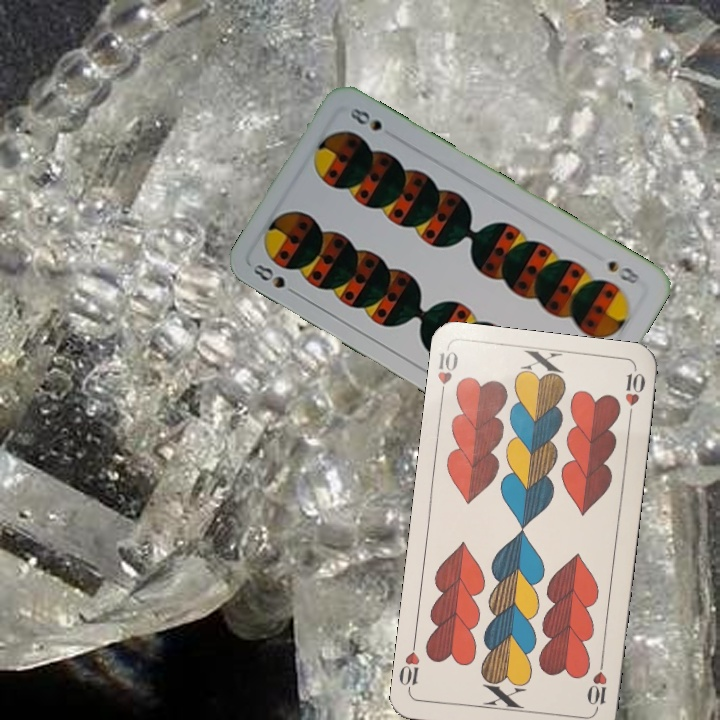H10: (583, 655, 610, 714), (434, 347, 461, 404)
S8: (249, 259, 302, 299), (603, 256, 643, 288)
